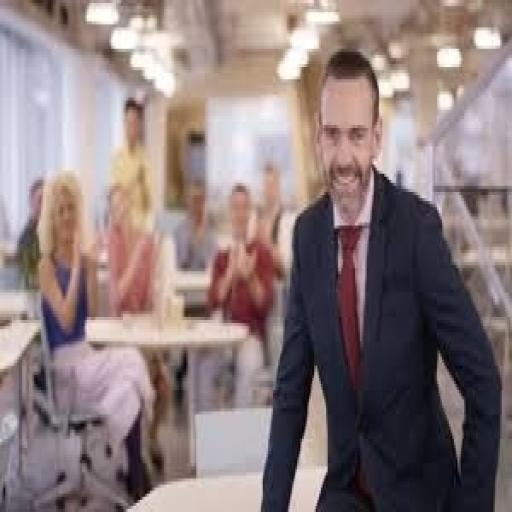clapping: (34, 164, 159, 500)
